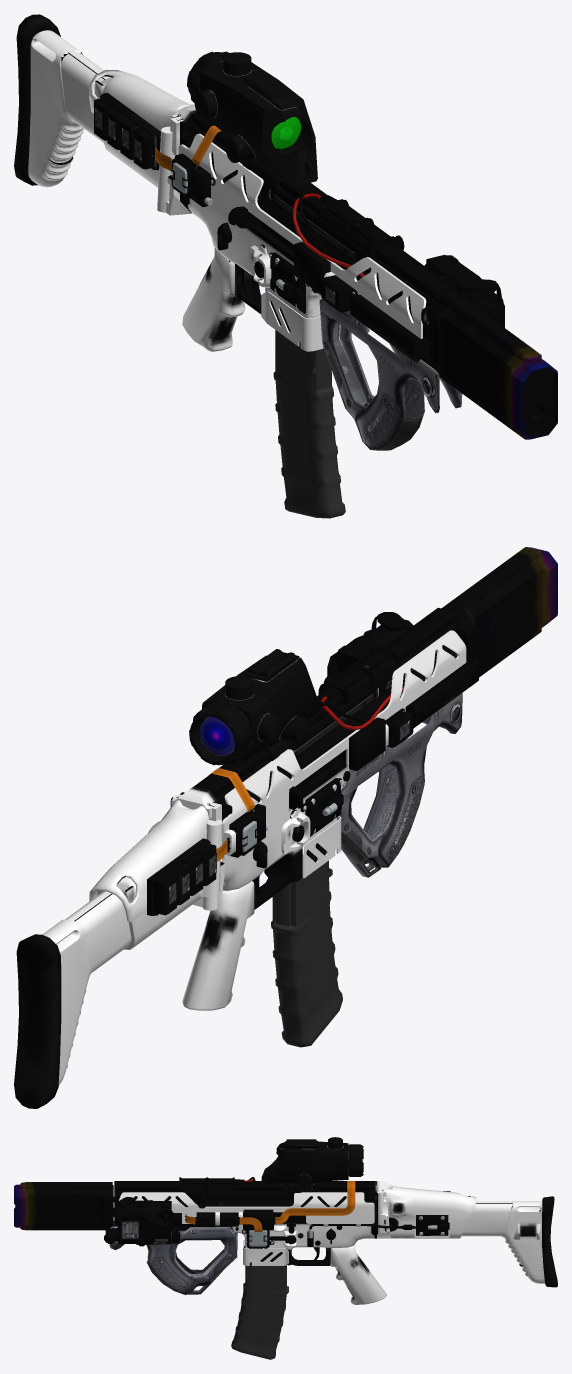
The model's file is AssaultRifle1.fbx.
3 renders of one model, top to bottom at view 1: azimuth 30°, elevation 25°; view 2: azimuth 150°, elevation 25°; view 3: azimuth 270°, elevation 25°, orthographic. The views are drawn at different scales.
Visible parts, largest first — view 1: WEAPON_PRIMARY_AR_SCARL_Provoda, WEAPON_PRIMARY_AR_SCARL, SET_SCOPE1_ARMGDMRSMGSG_BRAVO4_LOD0, SET_FWD_GRIP, SET_LASERDESIGNATOR_ANPEQ15_LOD0; view 2: WEAPON_PRIMARY_AR_SCARL, WEAPON_PRIMARY_AR_SCARL_Provoda, SET_SCOPE1_ARMGDMRSMGSG_BRAVO4_LOD0, SET_FWD_GRIP, SET_LASERDESIGNATOR_ANPEQ15_LOD0; view 3: WEAPON_PRIMARY_AR_SCARL, WEAPON_PRIMARY_AR_SCARL_Provoda, SET_SCOPE1_ARMGDMRSMGSG_BRAVO4_LOD0, SET_FWD_GRIP, SET_LASERDESIGNATOR_ANPEQ15_LOD0, LaserSticker.
Boxes of the visible parts, box(x1,y1,x2,y2) form: WEAPON_PRIMARY_AR_SCARL_Provoda: box(94, 92, 557, 518); WEAPON_PRIMARY_AR_SCARL: box(14, 14, 539, 415); SET_SCOPE1_ARMGDMRSMGSG_BRAVO4_LOD0: box(187, 51, 317, 189); SET_FWD_GRIP: box(319, 299, 462, 450); SET_LASERDESIGNATOR_ANPEQ15_LOD0: box(424, 255, 504, 327); WEAPON_PRIMARY_AR_SCARL: box(14, 607, 478, 1108); WEAPON_PRIMARY_AR_SCARL_Provoda: box(147, 547, 557, 1047); SET_SCOPE1_ARMGDMRSMGSG_BRAVO4_LOD0: box(189, 649, 319, 765); SET_FWD_GRIP: box(339, 693, 462, 877); SET_LASERDESIGNATOR_ANPEQ15_LOD0: box(327, 612, 413, 679); WEAPON_PRIMARY_AR_SCARL: box(103, 1181, 557, 1304); WEAPON_PRIMARY_AR_SCARL_Provoda: box(14, 1177, 450, 1359); SET_SCOPE1_ARMGDMRSMGSG_BRAVO4_LOD0: box(261, 1137, 363, 1192); SET_FWD_GRIP: box(109, 1221, 237, 1295); SET_LASERDESIGNATOR_ANPEQ15_LOD0: box(104, 1197, 180, 1246); LaserSticker: box(120, 1220, 139, 1240).
Bounding box in the file's own units: 9.73 × 36.82 × 83.58.
